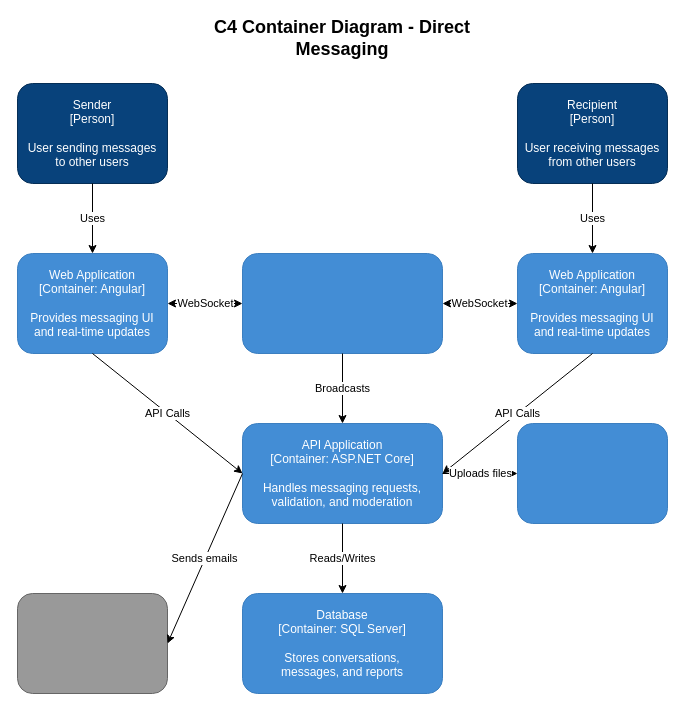
The diagram is 685 pixels wide and 711 high, and some of its shapes have lost their labels. The shapes that lost their labels are listed below. From the top down, each one's centre as x and y in pixels, then its label:
At point 342,303: "SignalR Hub [Container: ASP.NET Core] Handles real-time message delivery".
At point 592,473: "Blob Storage [Container: Azure Blob] Stores message attachments".
At point 92,643: "Email Service [External System] Sends notification emails and moderation alerts".
